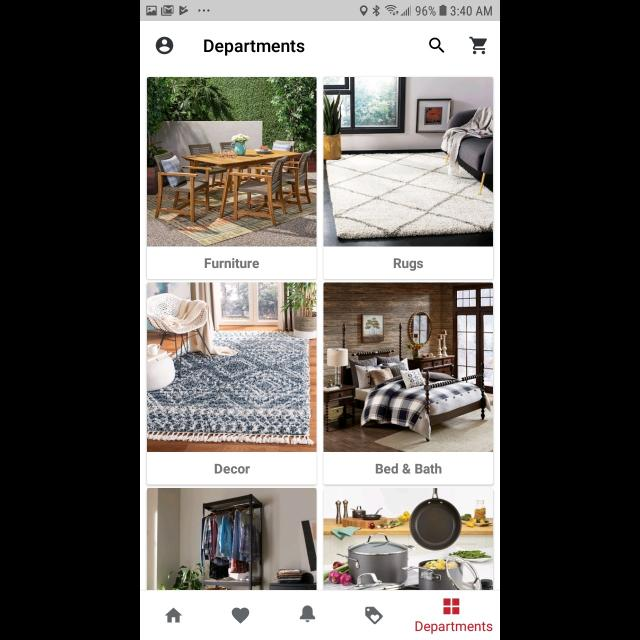icon: (365, 606, 383, 624), (469, 37, 487, 55), (156, 37, 174, 55), (232, 608, 250, 624), (444, 599, 460, 615), (300, 606, 316, 622), (429, 38, 445, 54), (165, 608, 183, 622)
image: (147, 77, 317, 247), (323, 77, 493, 247), (147, 283, 317, 452), (323, 283, 493, 452), (147, 488, 317, 590), (323, 488, 493, 590)
text: (203, 40, 304, 56), (416, 620, 492, 634), (374, 464, 442, 474), (204, 258, 260, 270), (393, 258, 423, 272), (214, 464, 250, 474)
uppertaskbar: (140, 1, 500, 22)
